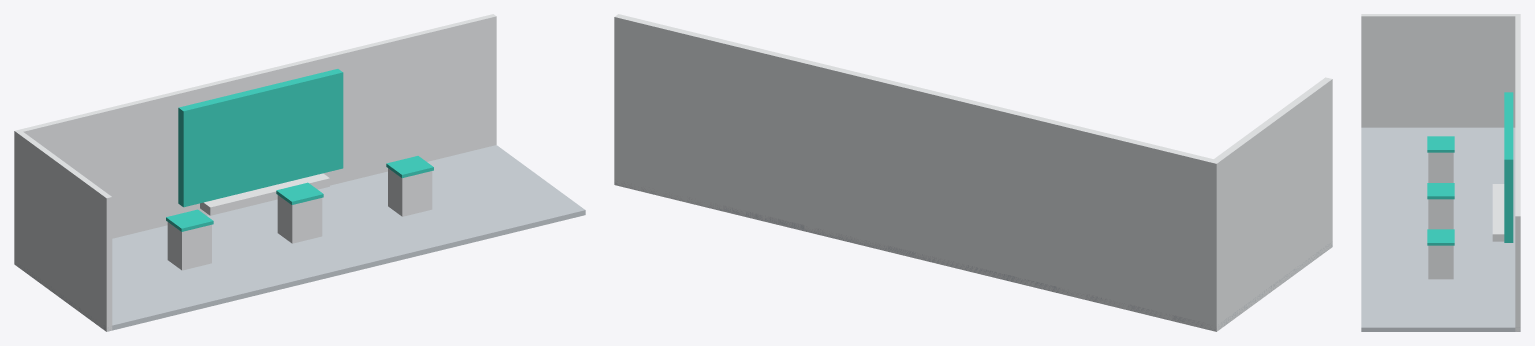
3 renders of one model, left to right at view 1: azimuth 30°, elevation 25°; view 2: azimuth 150°, elevation 25°; view 3: azimuth 270°, elevation 25°, orthographic. The views are drawn at different scales.
Parts seen in each view (by area): view 1: Exhibition Booth Concept; view 2: Exhibition Booth Concept; view 3: Exhibition Booth Concept.
Boxes of the visible parts, box(x1,y1,x2,y2) form: Exhibition Booth Concept: box(14, 14, 585, 331); Exhibition Booth Concept: box(614, 14, 1332, 331); Exhibition Booth Concept: box(1361, 14, 1520, 331).
Size of the model in its own units: 12 by 3.2 by 4.
